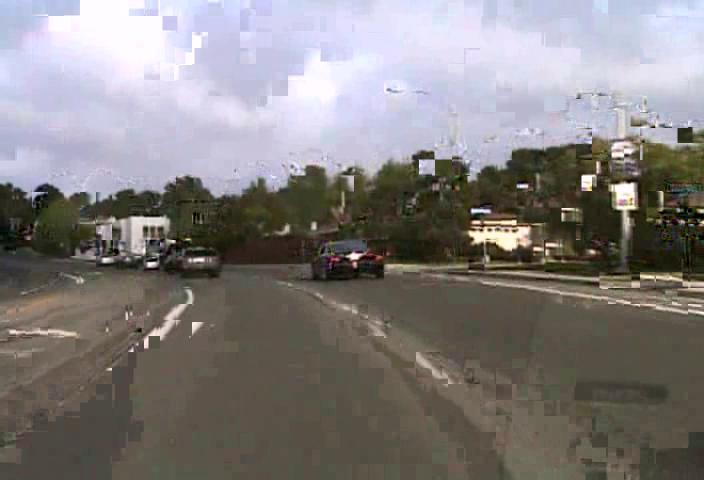speedLimitUrdbl: (610, 180, 638, 210)
